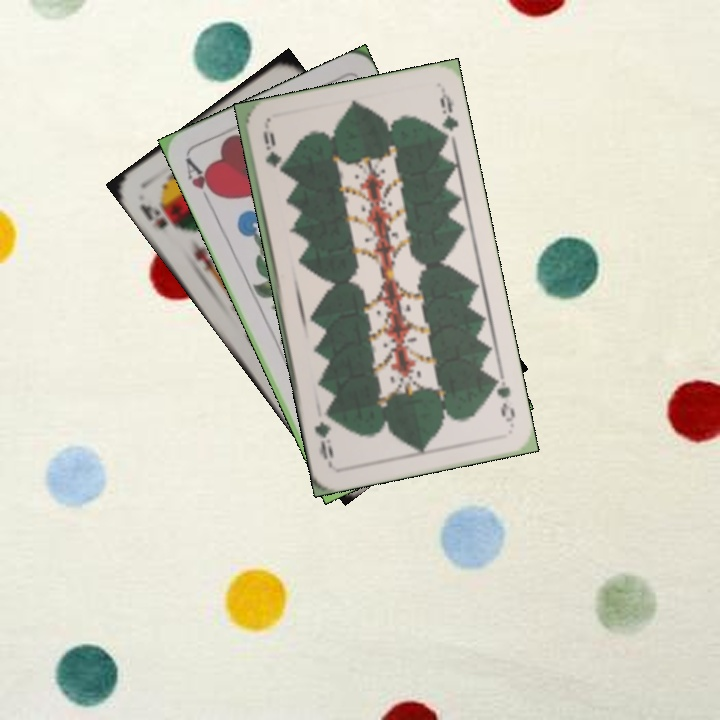G9: (487, 371, 518, 425), (259, 127, 281, 171)
HA: (181, 153, 221, 209)
SK: (136, 199, 170, 232)
